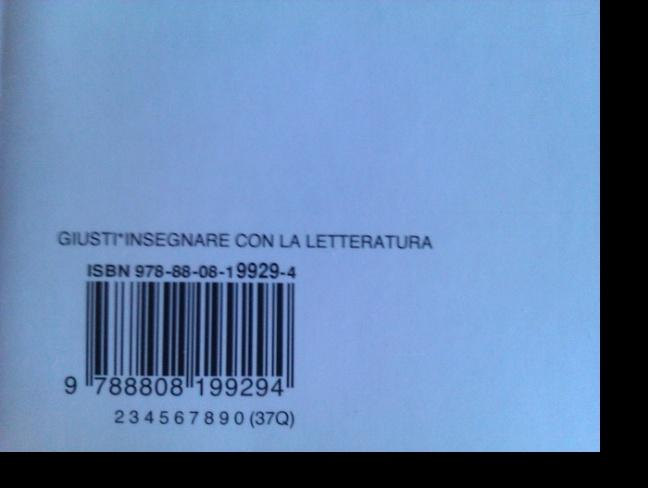Barcode: (58, 277, 309, 405)
